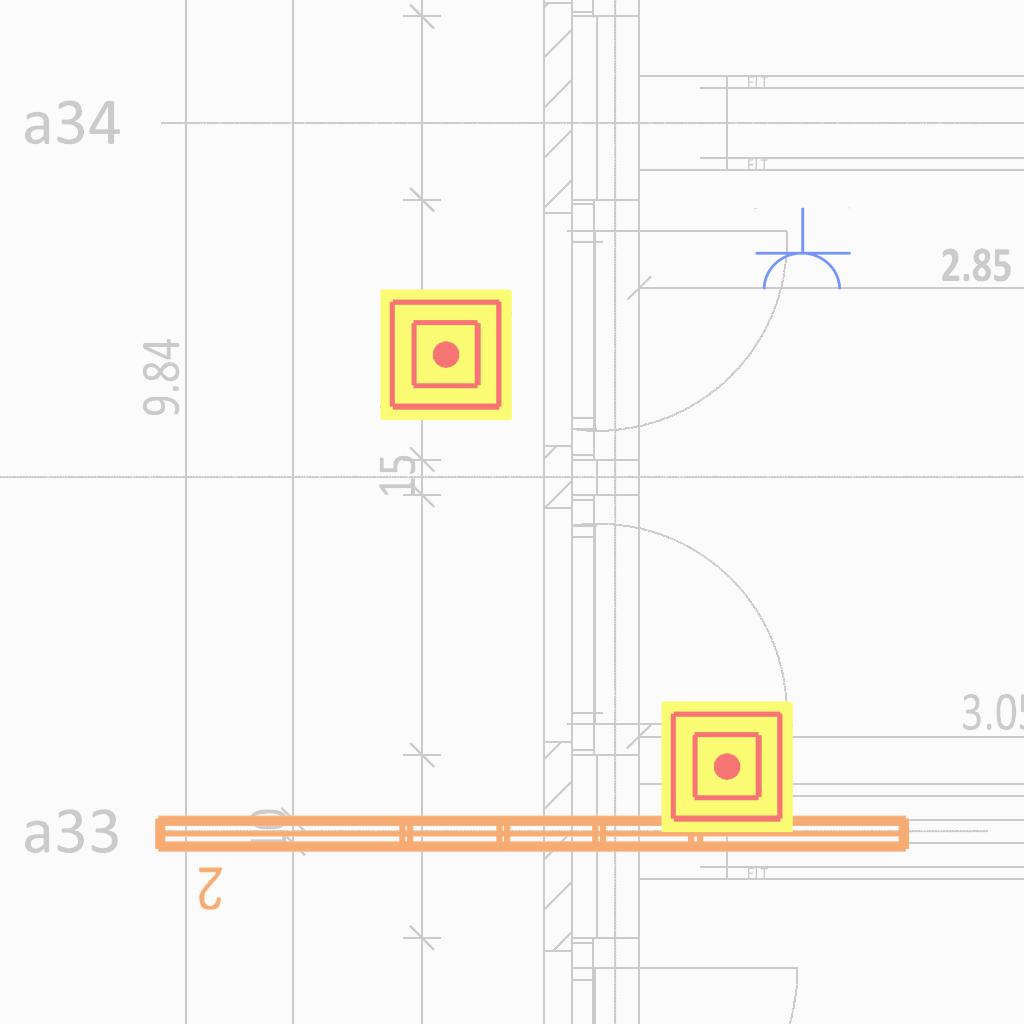Ambulanz_Pendelleuchte_LED: (146, 803, 920, 915)
NAM-Nichtautomatischer_Melder: (380, 289, 512, 421), (661, 701, 793, 833)
Schukosteckdose_einfach: (752, 207, 852, 294)
